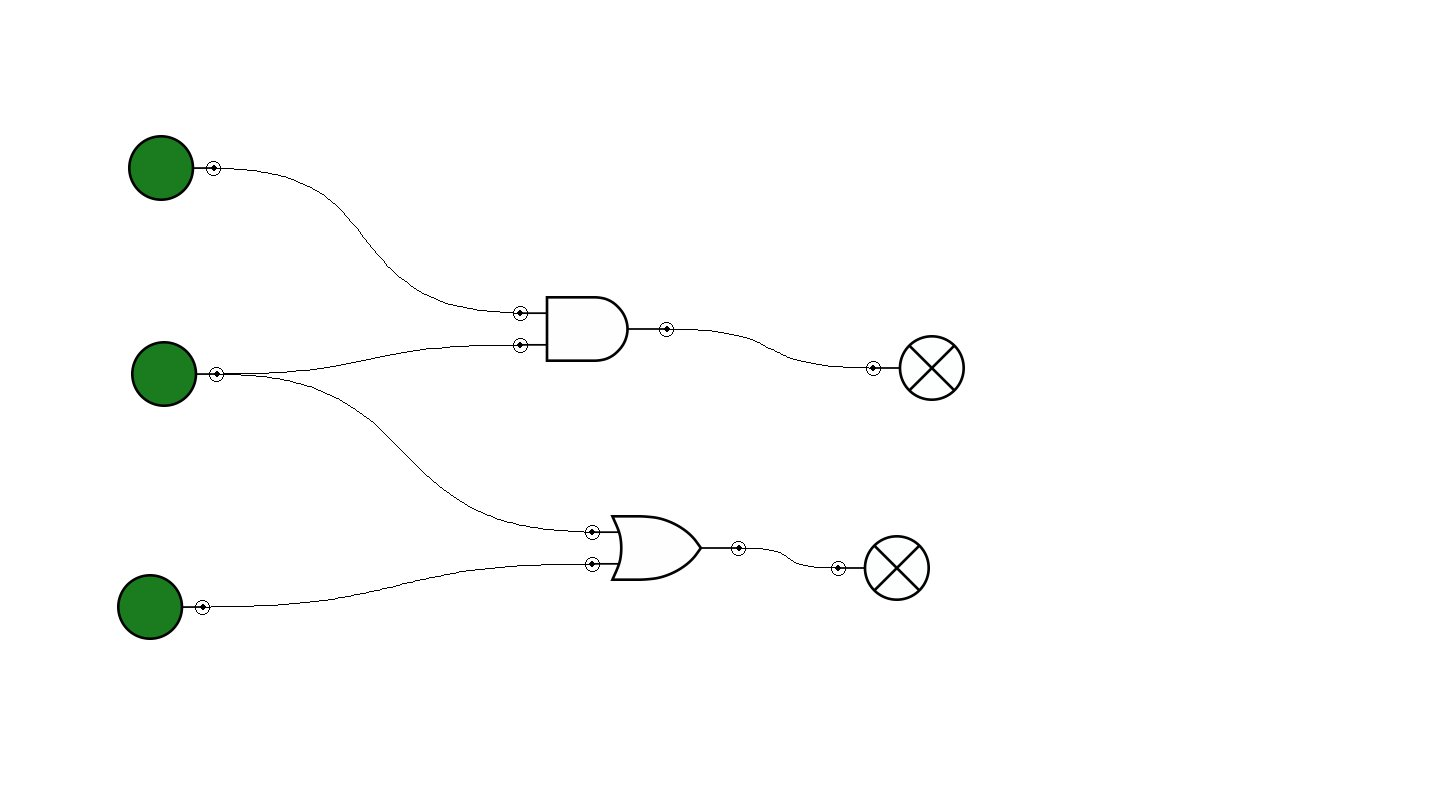and: (513, 296, 674, 362)
bulb: (831, 535, 930, 601), (866, 335, 965, 401)
or: (585, 515, 746, 581)
switch_True: (131, 341, 224, 407), (117, 574, 210, 640), (128, 135, 221, 201)
